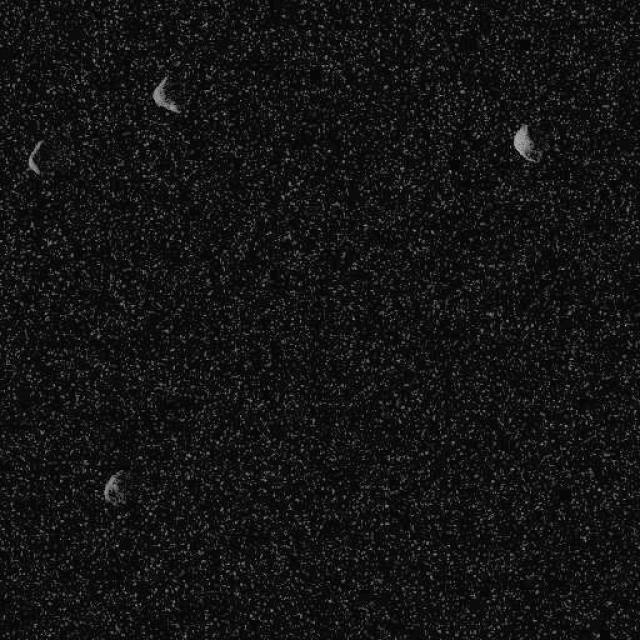D2: (511, 122, 541, 164), (151, 74, 181, 115), (101, 469, 128, 506), (25, 138, 45, 176)
